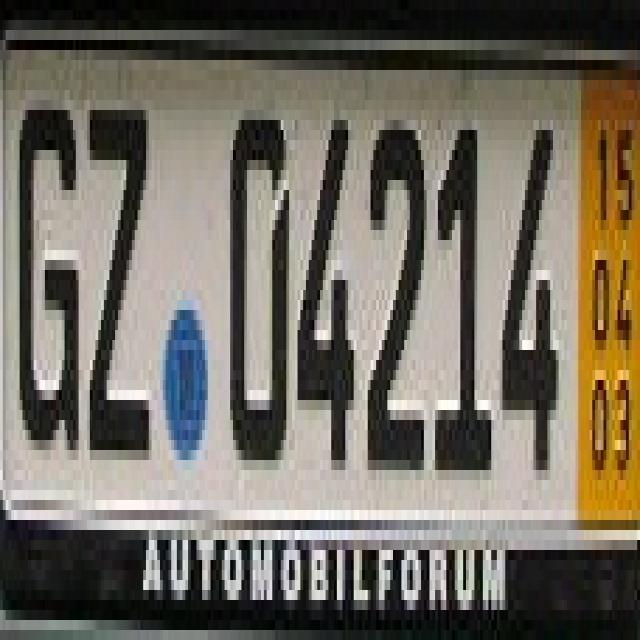0: (227, 110, 292, 480)
1: (427, 90, 491, 500)
2: (362, 120, 424, 480)
4: (494, 100, 564, 500), (289, 110, 357, 470)
G: (14, 90, 79, 470)
Z: (84, 100, 152, 460)
